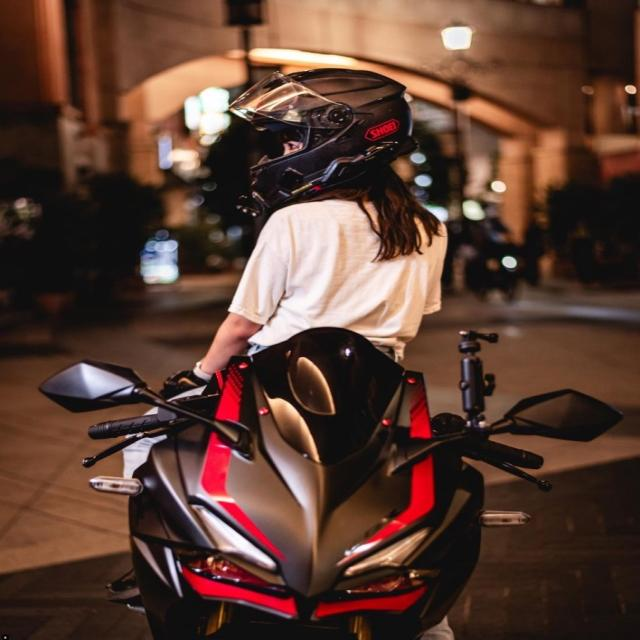helmet: (221, 62, 424, 212)
